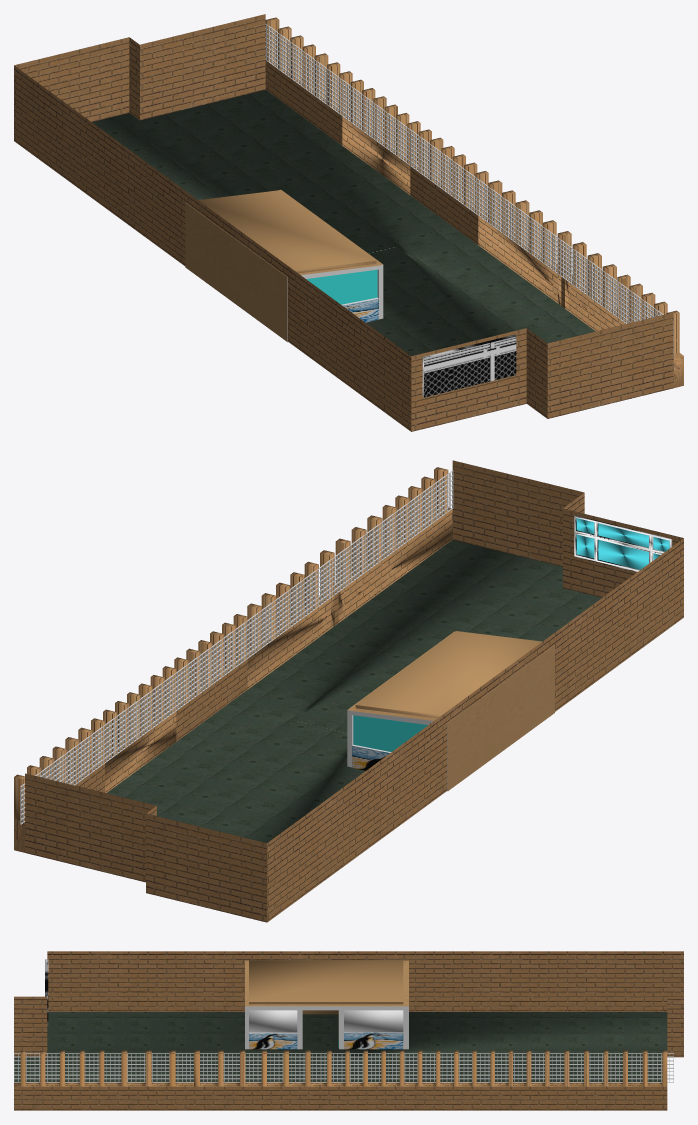
Rendered from Entorno3.fbx.
The picture shows the model from 3 angles, top to bottom: view 1: azimuth 30°, elevation 25°; view 2: azimuth 150°, elevation 25°; view 3: azimuth 270°, elevation 25°; orthographic projection. The views are drawn at different scales.
Parts seen in each view (by area): view 1: paredes ladriloo, piso, Cube.001, Cube.007, Cube.002; view 2: paredes ladriloo, piso, Cube.001, Cube.007, Cube.002, Cube.005, Cube.004; view 3: paredes ladriloo, piso, Cube.001, Cube.007.
Boxes of the visible parts, box(x1,y1,x2,y2) form: paredes ladriloo: box(14, 14, 683, 431); piso: box(92, 90, 595, 355); Cube.001: box(185, 189, 383, 342); Cube.007: box(265, 24, 673, 357); Cube.002: box(342, 116, 625, 331); paredes ladriloo: box(14, 460, 683, 922); piso: box(107, 540, 601, 842); Cube.001: box(347, 631, 554, 791); Cube.007: box(20, 470, 453, 824); Cube.002: box(105, 509, 452, 793); Cube.005: box(576, 518, 669, 569); Cube.004: box(574, 516, 671, 571); paredes ladriloo: box(14, 951, 683, 1110); piso: box(14, 1012, 667, 1081); Cube.001: box(245, 960, 408, 1049); Cube.007: box(14, 1053, 673, 1082).
Size of the model in its own units: 5010 by 1450 by 14390.
Materials: 9 (5 with a texture image).
